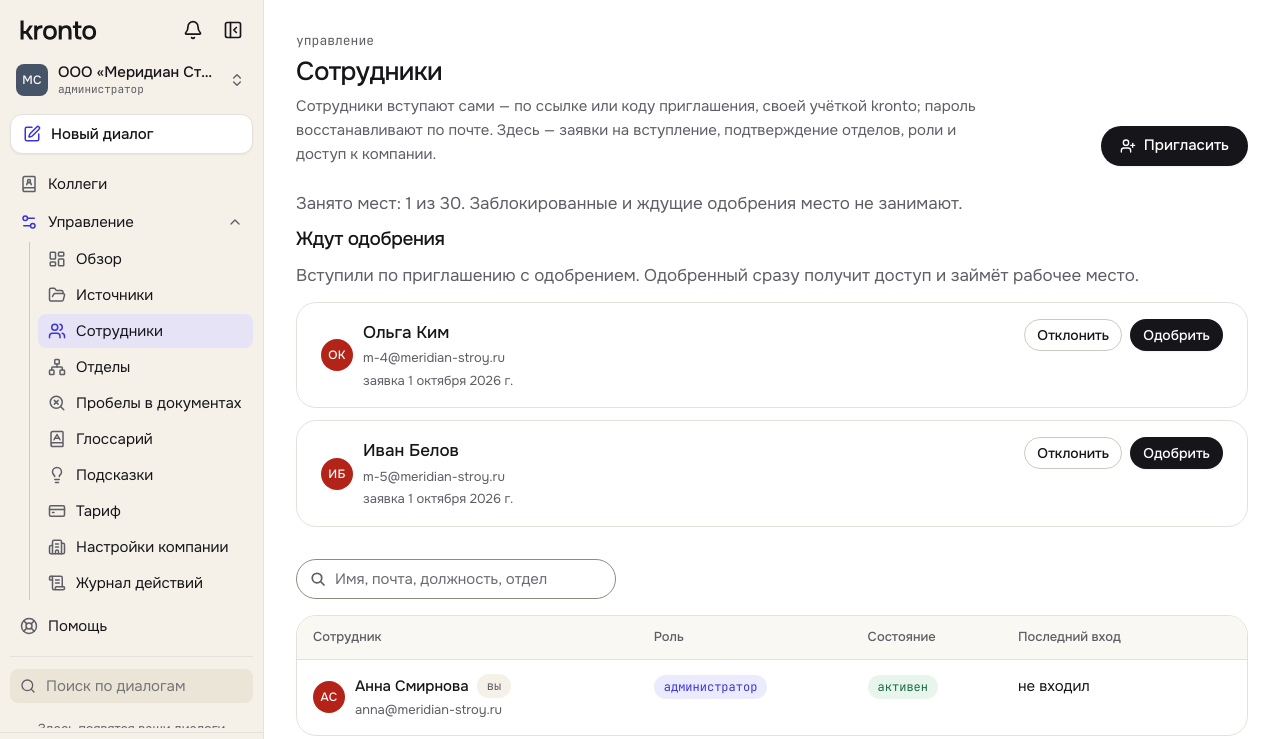
Test case: заявки на вступление › одобрить и отклонить
The image size is (1280, 739).
Expected: the heading "Ждут одобрения" is shown, 296,227 -> 445,251
Click the button "Одобрить" in the row of "Ольга Ким": (1177, 335) 1130,319 -> 1223,351
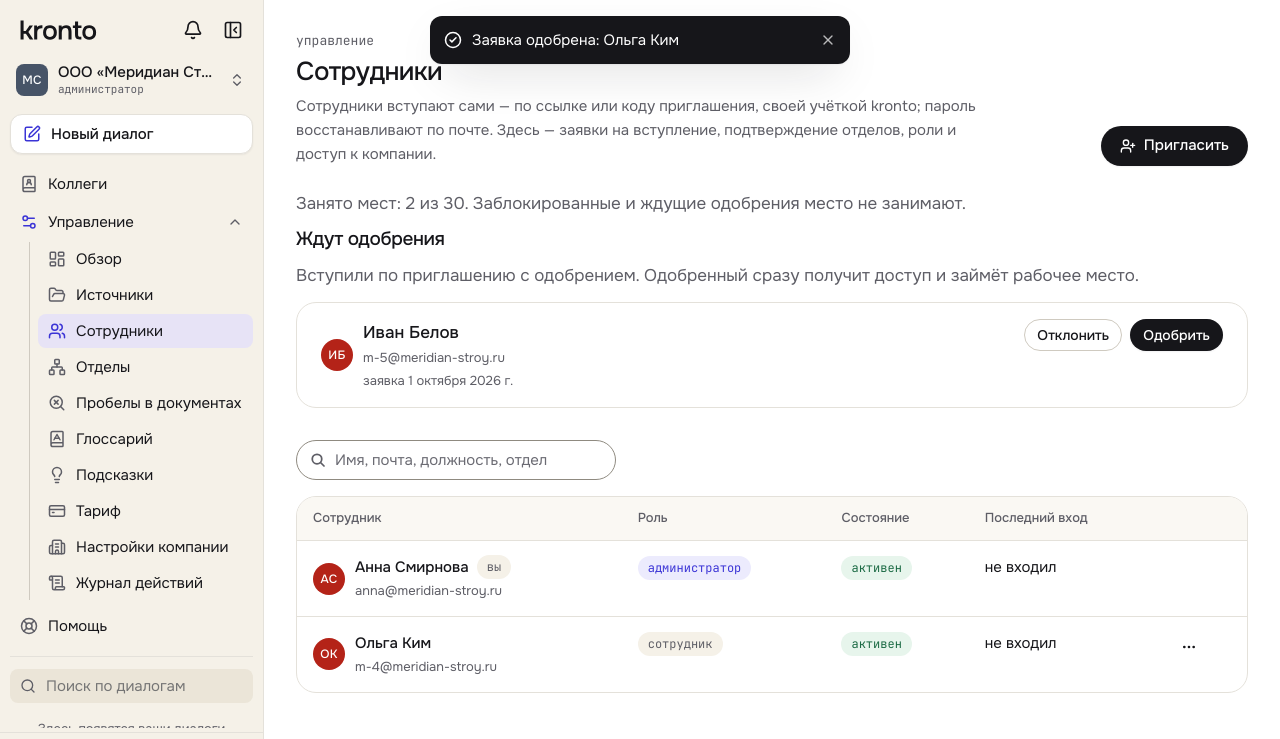
Now the text "Заявка одобрена: Ольга Ким" is shown, box 472,30 -> 679,50
Now the button named "Действия: Ольга Ким" is shown, box 1173,631 -> 1205,663
Click the button "Отклонить": (1073, 335) 1024,319 -> 1122,351
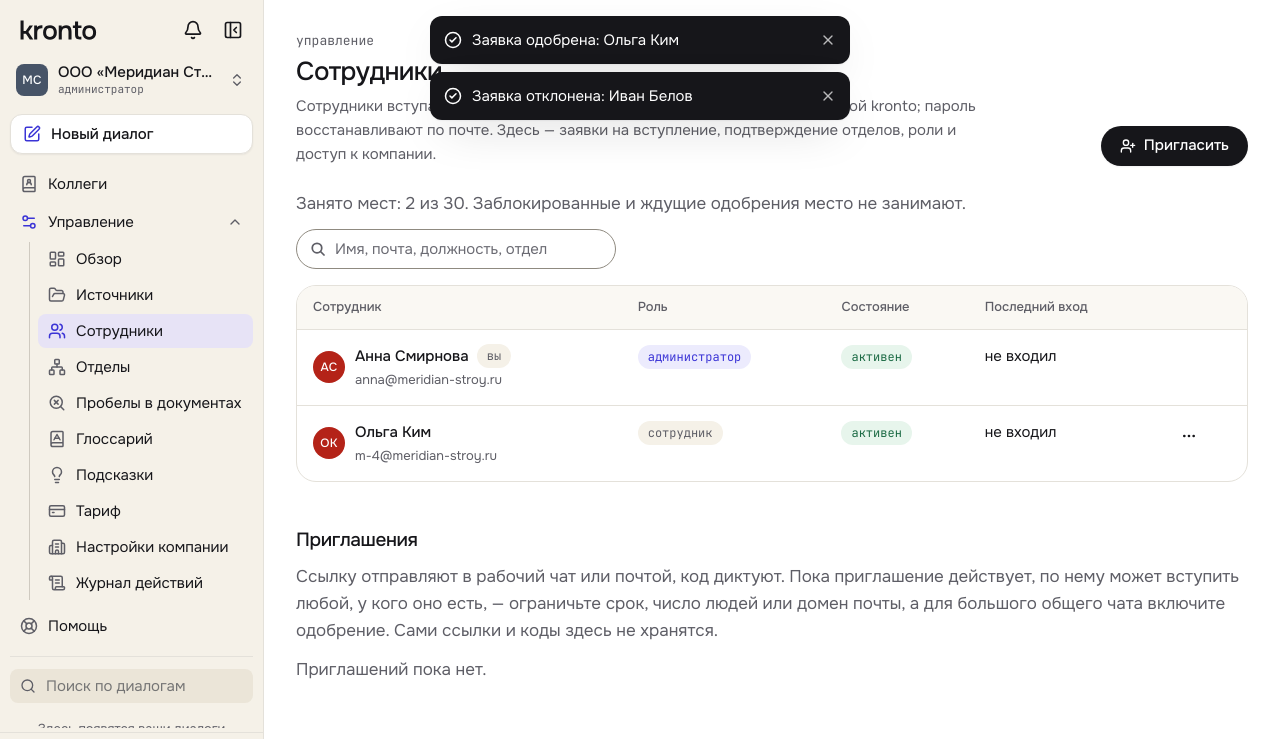
Now the text "Заявка отклонена: Иван Белов" is shown, box 472,86 -> 693,106
Now the heading "Ждут одобрения" is gone
